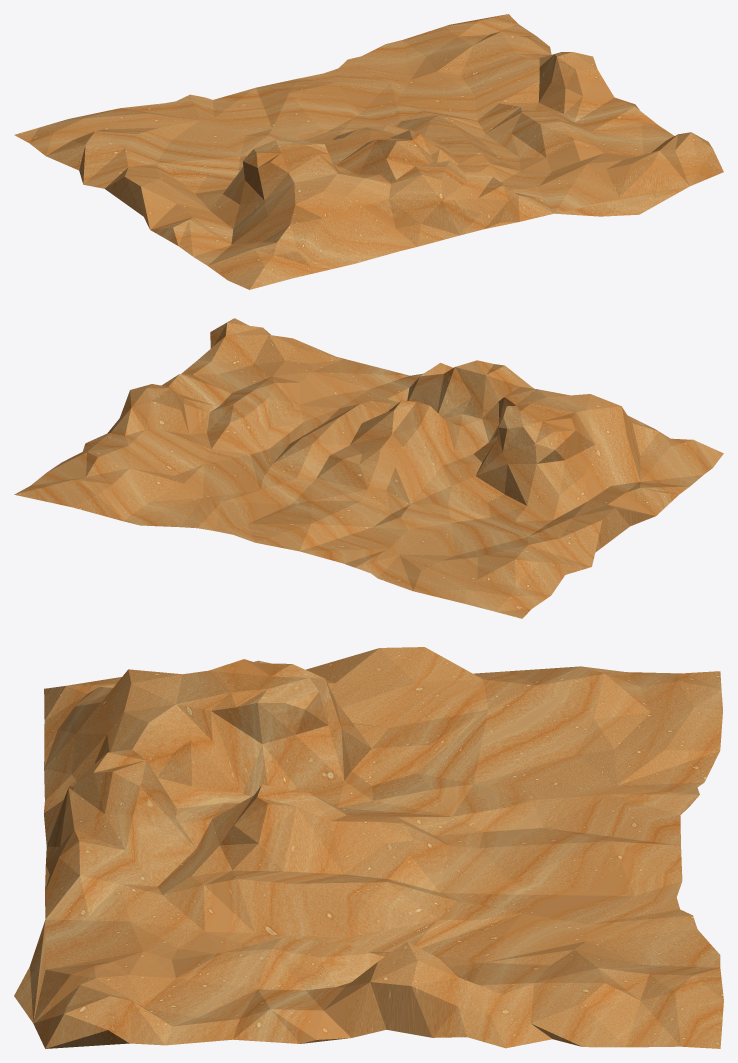
File: ground.fbx
The picture shows the model from 3 angles, top to bottom: view 1: azimuth 30°, elevation 25°; view 2: azimuth 150°, elevation 25°; view 3: azimuth 270°, elevation 25°; orthographic projection. The views are drawn at different scales.
Parts seen in each view (by area): view 1: Cube; view 2: Cube; view 3: Cube.
Part boxes in pixels (left/top/right/bottom): Cube: left=14, top=14, right=723, bottom=289; Cube: left=14, top=318, right=723, bottom=618; Cube: left=14, top=647, right=723, bottom=1048.
Bounding box in the file's own units: 1788 × 1407 × 248.
1 material, 1 textured.
